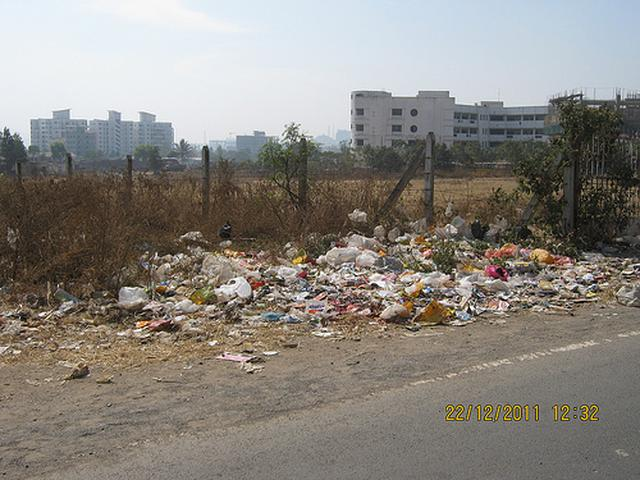garbage: (174, 249, 581, 312)
